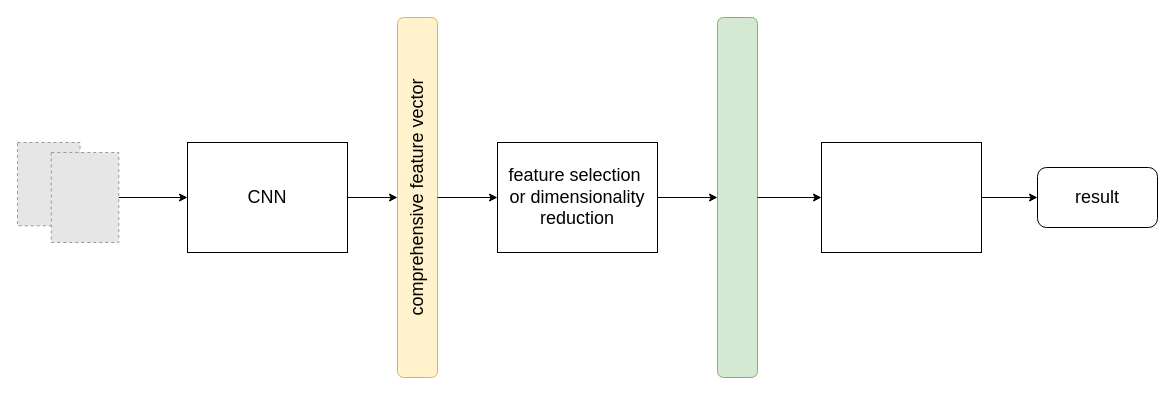
Image size: 1175x395. Some labels were removed from this diagram. Grey dashed boxes stand in for pictures. The centre of each missing label's shape, as x and y in pixels:
"features vector of n dimensions" belongs at [737,197].
"Supervised Classifier" belongs at [901,197].
